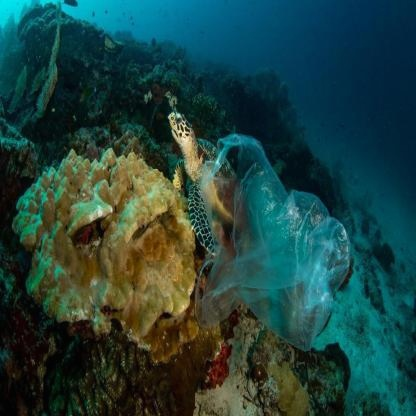pbag: (188, 123, 355, 357)
